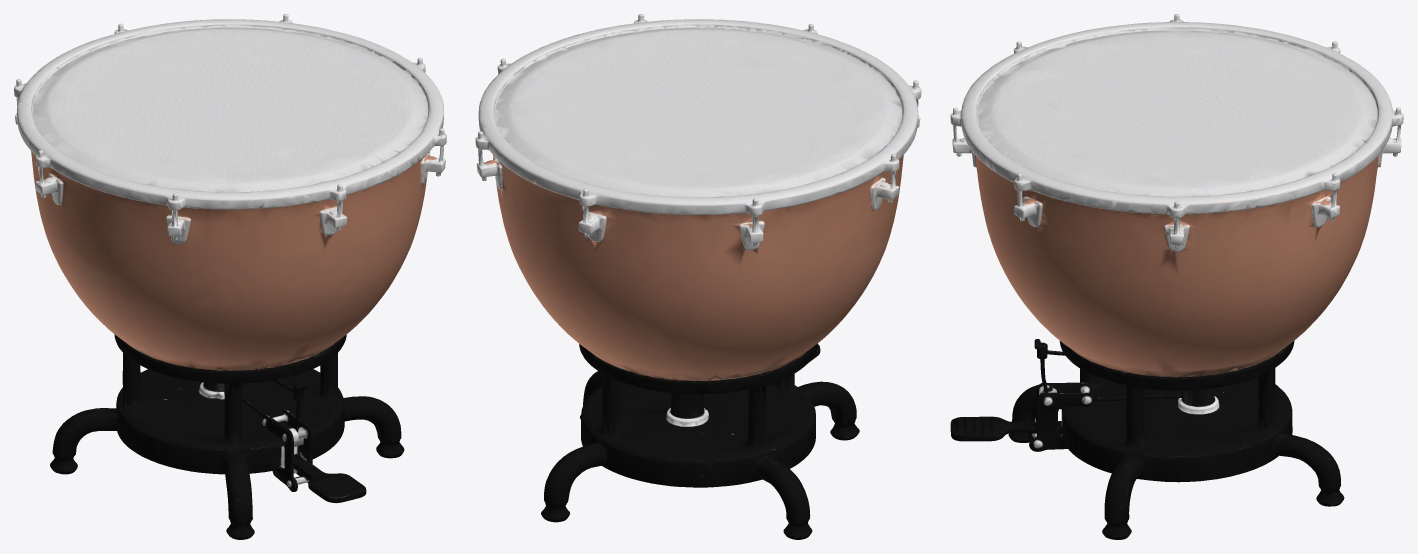
Rendered from timpani.glb.
3 views of the same model, side by side, from view 1: azimuth 30°, elevation 25°; view 2: azimuth 150°, elevation 25°; view 3: azimuth 270°, elevation 25° (orthographic). The views are drawn at different scales.
Bounding box in the file's own units: 1.9 × 1.68 × 1.9.
Materials: 1 (1 with a texture image).
